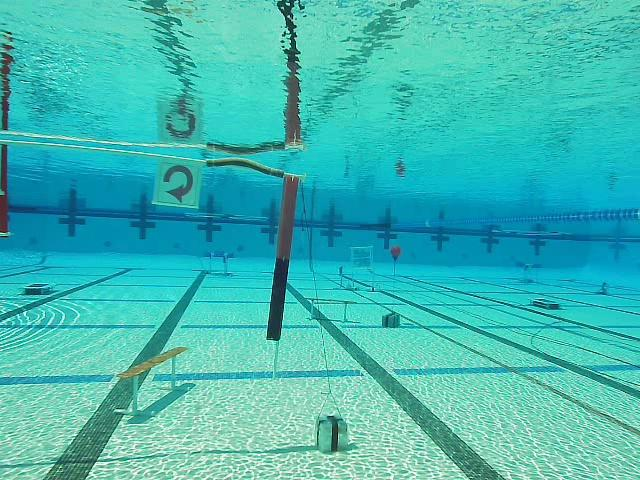buoy: (389, 245, 401, 262)
gate_leg_r: (265, 173, 304, 341)
gate_red: (155, 160, 200, 208)
table: (202, 250, 235, 277)
torpedo: (351, 247, 372, 269)
